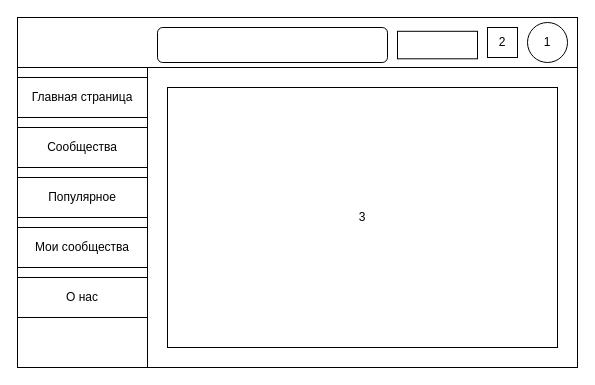
The diagram is 595 pixels wide and 385 high, and some of its shapes have lost their labels. The shapes that lost their labels are listed below. From the top down, each one's centre as x and y in pixels, then its label:
At (272,44): "Поиск".
At (437,44): "Создать".
